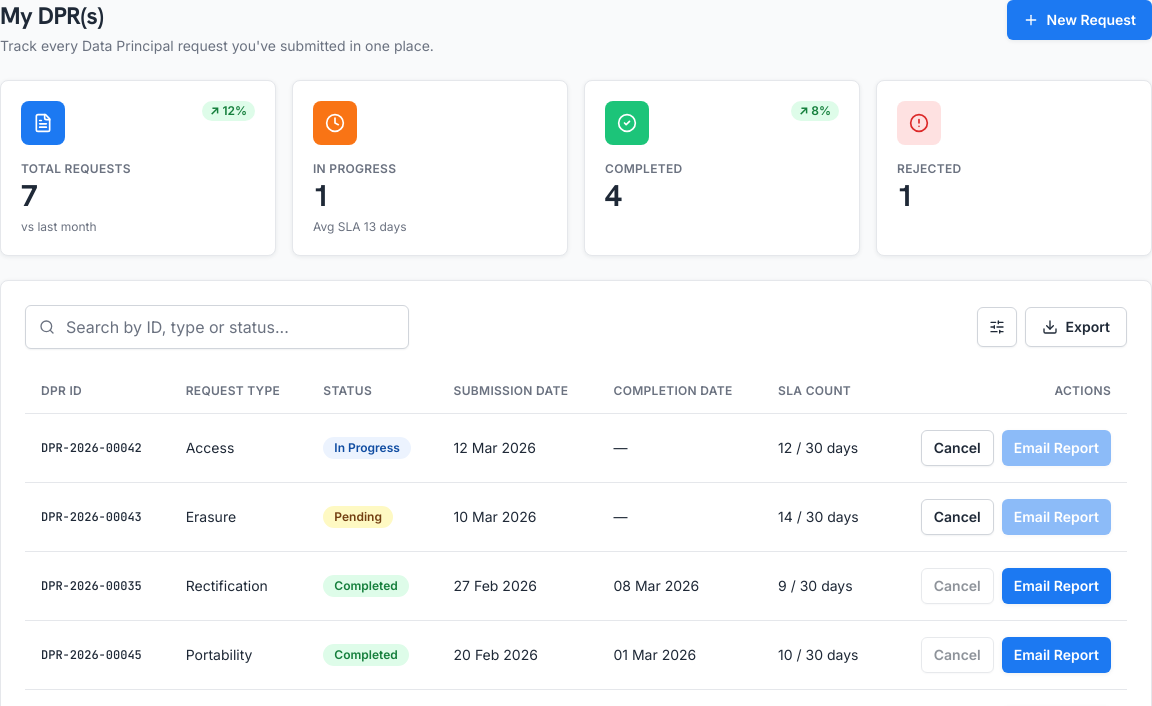
Test: RightsModule › filters the request list by the search query
The image size is (1152, 706).
Type "DPR-2026-00042" into the search field named "Search requests" at (217,327), box [25,305,409,349]
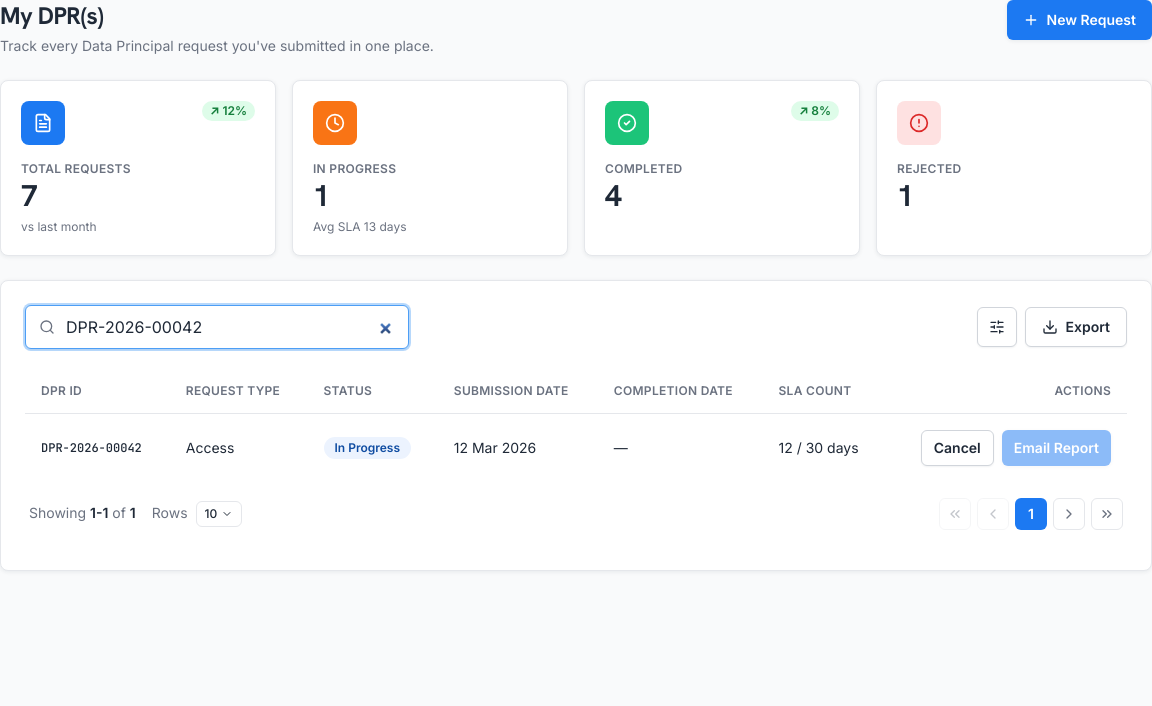
Expected: the text "DPR-2026-00042" is shown, [25,413,170,482]
Expected: the text "DPR-2026-00043" is not shown
